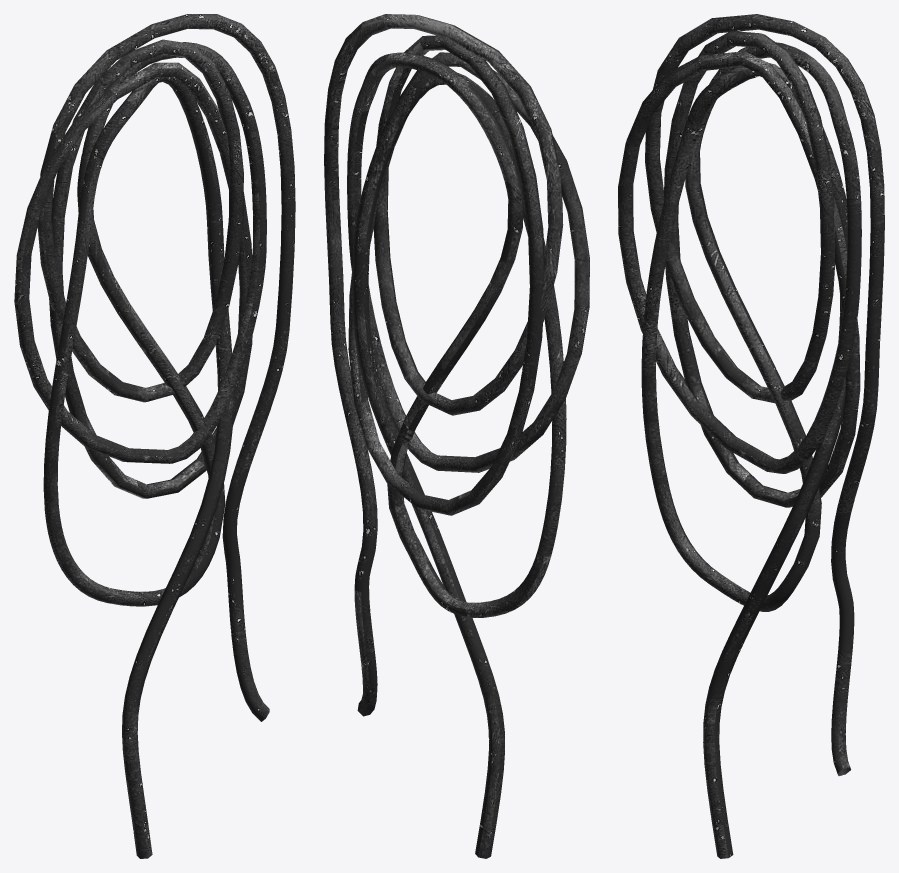
Rendered from Cable6.fbx.
3 renders of one model, left to right at view 1: azimuth 30°, elevation 25°; view 2: azimuth 150°, elevation 25°; view 3: azimuth 330°, elevation 25°, orthographic. The views are drawn at different scales.
Visible parts, largest first — view 1: Wire.004; view 2: Wire.004; view 3: Wire.004.
Part boxes in pixels (left/top/right/bottom): Wire.004: left=14, top=14, right=295, bottom=858; Wire.004: left=324, top=14, right=589, bottom=858; Wire.004: left=618, top=14, right=884, bottom=858.
Bounding box in the file's own units: 996 × 2897 × 219.
